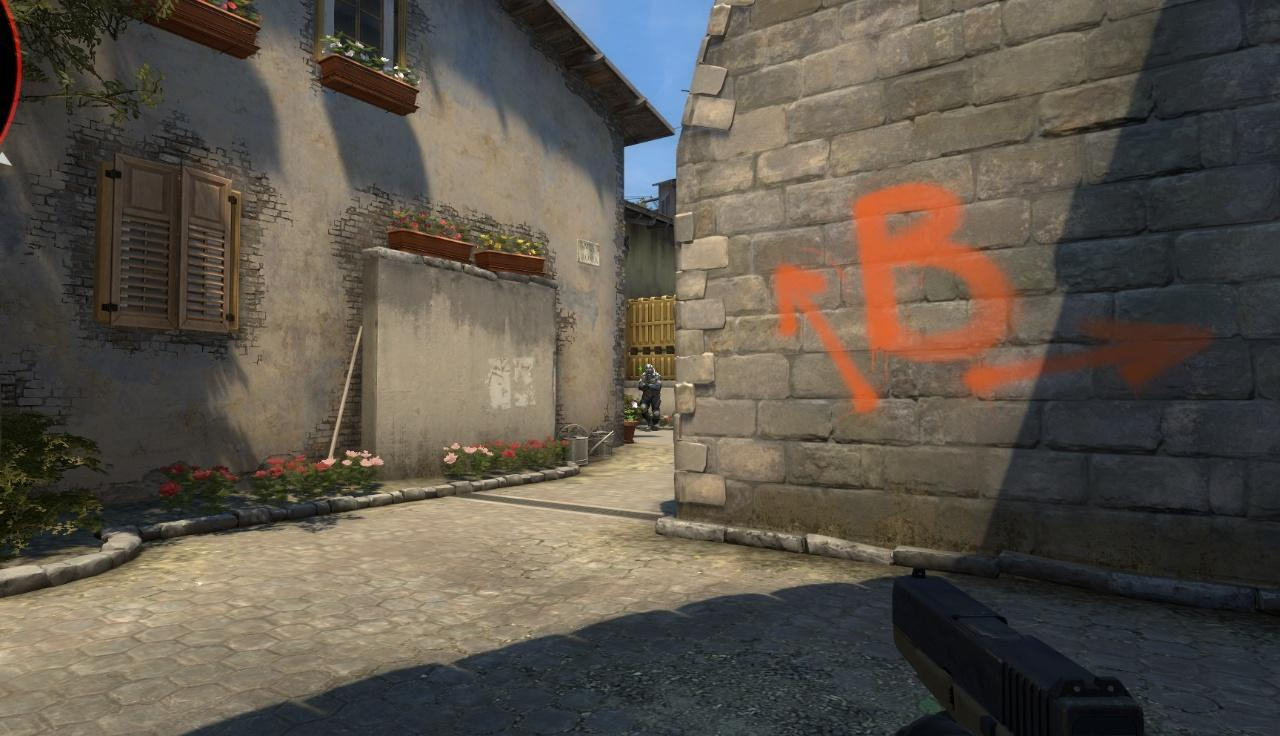ct: (641, 365, 661, 431)
cthead: (645, 364, 653, 377)
pistol: (890, 570, 1149, 735)
